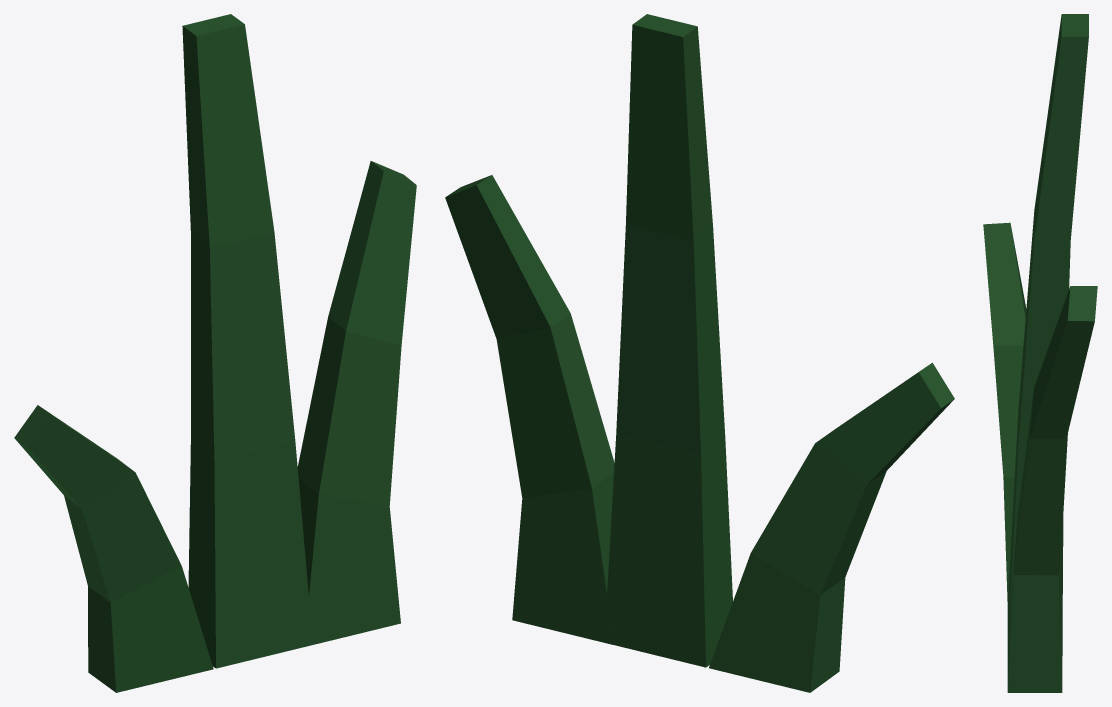
The model's file is grass_clump_sm.glb.
3 renders of one model, left to right at view 1: azimuth 30°, elevation 25°; view 2: azimuth 150°, elevation 25°; view 3: azimuth 270°, elevation 25°, orthographic. The views are drawn at different scales.
Parts seen in each view (by area): view 1: grassblade.001, grassblade.002, grassblade.003; view 2: grassblade.001, grassblade.002, grassblade.003; view 3: grassblade.002, grassblade.001, grassblade.003.
Boxes of the visible parts, x1=… form: grassblade.001: x1=182, y1=14, x2=312, y2=668; grassblade.002: x1=297, y1=161, x2=416, y2=644; grassblade.003: x1=14, y1=405, x2=213, y2=692; grassblade.001: x1=604, y1=14, x2=732, y2=667; grassblade.002: x1=445, y1=175, x2=614, y2=644; grassblade.003: x1=709, y1=362, x2=954, y2=692; grassblade.002: x1=1007, y1=286, x2=1097, y2=692; grassblade.001: x1=1007, y1=14, x2=1088, y2=649; grassblade.003: x1=983, y1=222, x2=1026, y2=602.
Bounding box in the file's own units: 0.2225 × 0.3006 × 0.0524.
